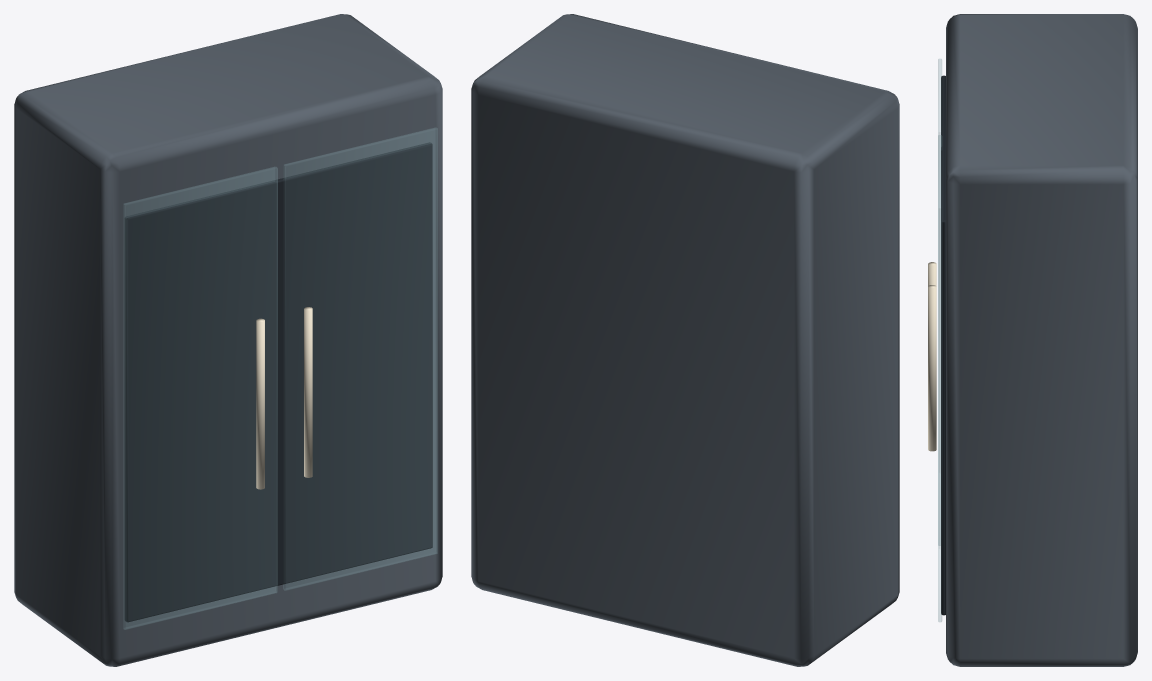
File: store-refrigerator.glb
3 views of the same model, side by side, from view 1: azimuth 30°, elevation 25°; view 2: azimuth 150°, elevation 25°; view 3: azimuth 270°, elevation 25° (orthographic). The views are drawn at different scales.
Visible parts, largest first — view 1: interior_0_glass, interior_0_metal.002, interior_0_dark.001, interior_0_ivory.001; view 2: interior_0_metal.002; view 3: interior_0_metal.002, interior_0_dark.001, interior_0_glass, interior_0_ivory.001.
Boxes of the visible parts, <box> form: interior_0_glass: <box>123,127,437,629</box>; interior_0_metal.002: <box>14,14,442,666</box>; interior_0_dark.001: <box>124,142,432,622</box>; interior_0_ivory.001: <box>256,307,312,489</box>; interior_0_metal.002: <box>471,14,899,666</box>; interior_0_metal.002: <box>946,14,1137,666</box>; interior_0_dark.001: <box>941,75,945,615</box>; interior_0_glass: <box>938,59,941,621</box>; interior_0_ivory.001: <box>928,262,936,451</box>.
Bounding box in the file's own units: 1.6 × 2.3 × 0.874.
